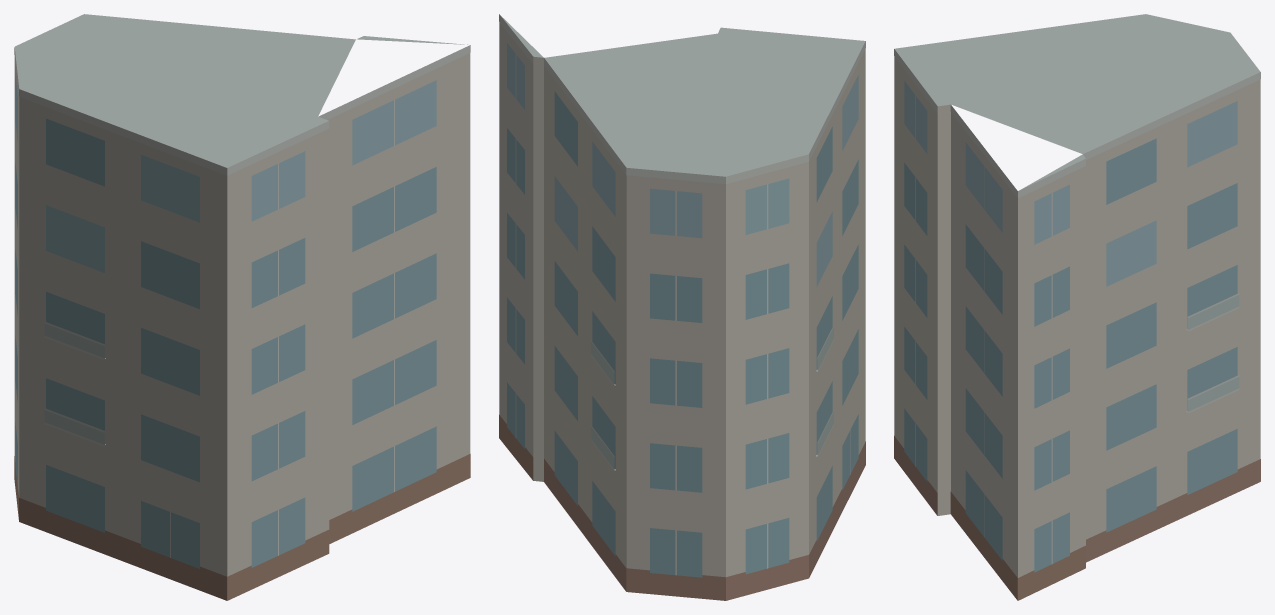
Rendered from survey-upis-33018047.glb.
3 views of the same model, side by side, from view 1: azimuth 30°, elevation 25°; view 2: azimuth 150°, elevation 25°; view 3: azimuth 270°, elevation 25° (orthographic). The views are drawn at different scales.
Visible parts, largest first — view 1: survey-upis-33018047.tmp; view 2: survey-upis-33018047.tmp; view 3: survey-upis-33018047.tmp.
Part boxes in pixels (box(x1,y1,x2,y2)): survey-upis-33018047.tmp: box(14, 14, 470, 600); survey-upis-33018047.tmp: box(499, 14, 865, 600); survey-upis-33018047.tmp: box(894, 14, 1260, 600).
Bounding box in the file's own units: 12.81 × 13.8 × 11.2.
